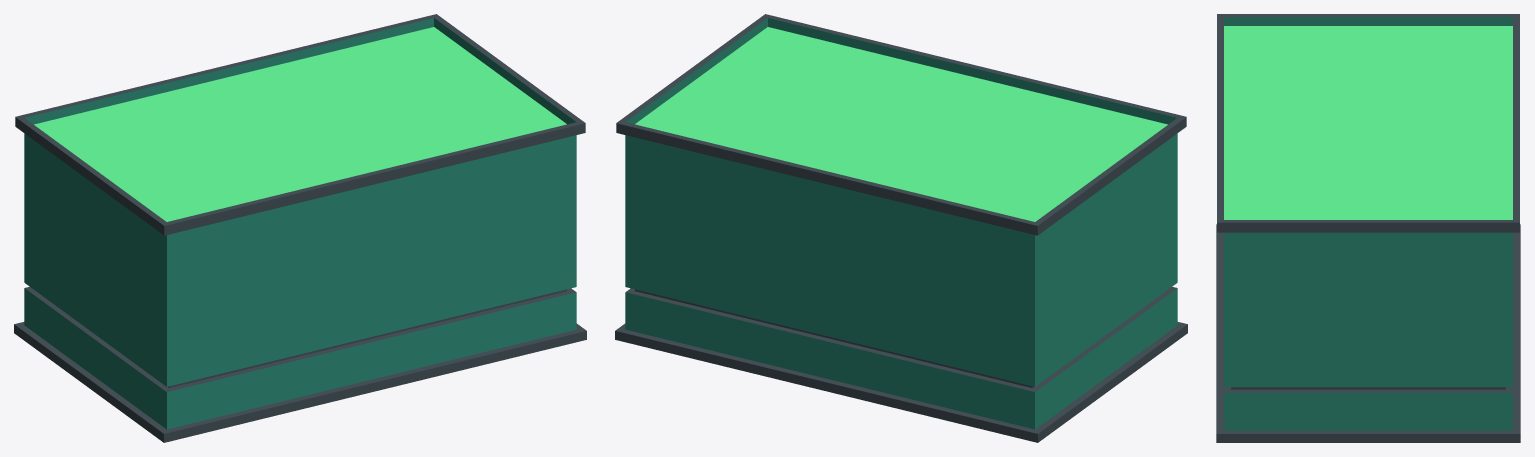
File: FlowerBed2.fbx
3 views of the same model, side by side, from view 1: azimuth 30°, elevation 25°; view 2: azimuth 150°, elevation 25°; view 3: azimuth 270°, elevation 25° (orthographic).
Visible parts, largest first — view 1: Flowerbed02; view 2: Flowerbed02; view 3: Flowerbed02.
Boxes of the visible parts, x1=… form: Flowerbed02: x1=14, y1=14, x2=586, y2=442; Flowerbed02: x1=615, y1=14, x2=1187, y2=442; Flowerbed02: x1=1216, y1=14, x2=1520, y2=442.
Bounding box in the file's own units: 65.02 × 31.81 × 39.94.
